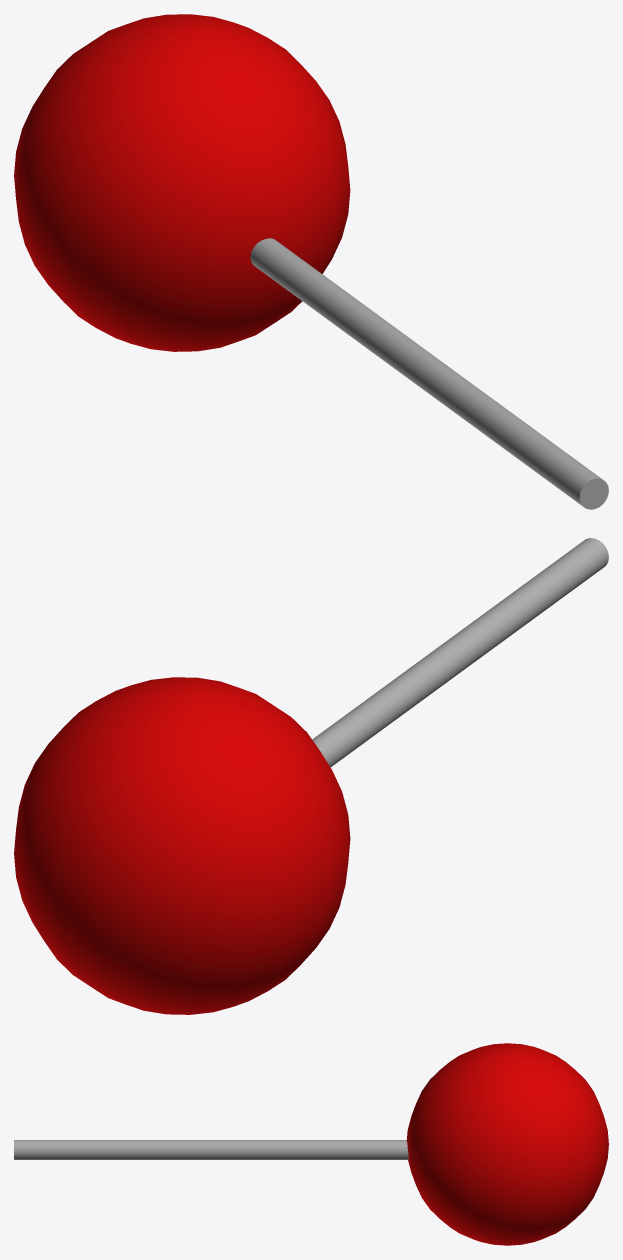
3 renders of one model, top to bottom at view 1: azimuth 30°, elevation 25°; view 2: azimuth 150°, elevation 25°; view 3: azimuth 270°, elevation 25°, orthographic. The views are drawn at different scales.
Visible parts, largest first — view 1: pSphere1, pCylinder1; view 2: pSphere1, pCylinder1; view 3: pSphere1, pCylinder1.
Boxes of the visible parts, left/top/right/bottom form: pSphere1: left=14, top=14, right=350, bottom=351; pCylinder1: left=250, top=238, right=608, bottom=509; pSphere1: left=14, top=677, right=350, bottom=1014; pCylinder1: left=312, top=538, right=608, bottom=767; pSphere1: left=406, top=1043, right=608, bottom=1245; pCylinder1: left=14, top=1140, right=408, bottom=1159.
Bounding box in the file's own units: 1 × 1 × 2.94.
